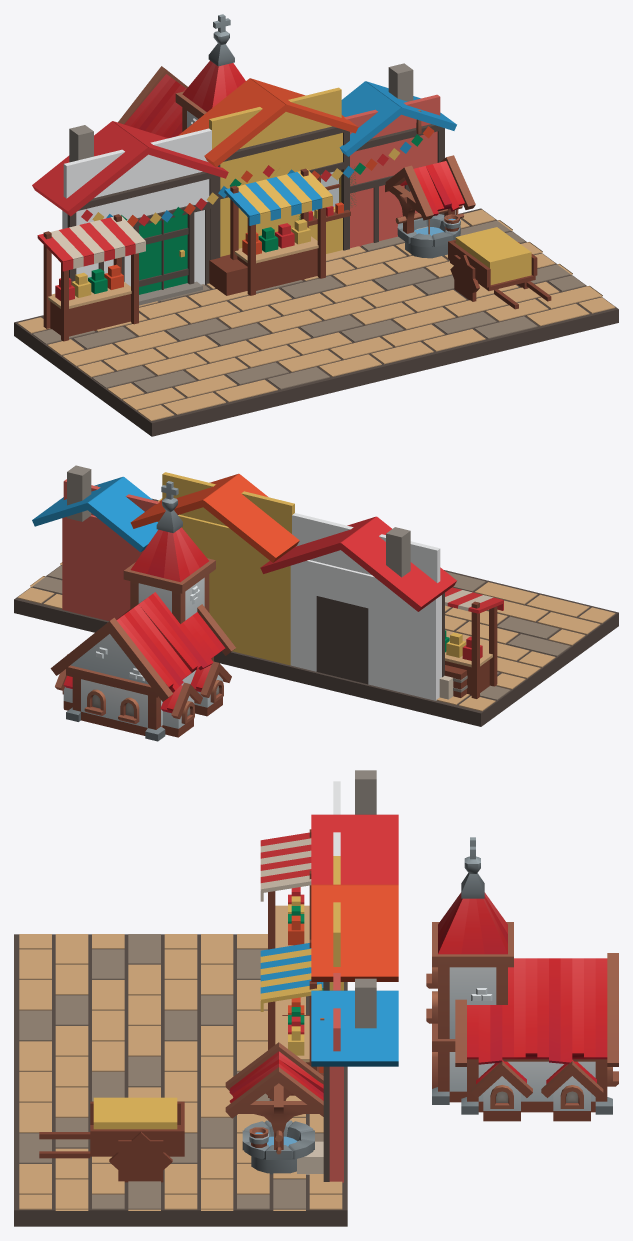
Rendered from market.glb.
3 renders of one model, top to bottom at view 1: azimuth 30°, elevation 25°; view 2: azimuth 150°, elevation 25°; view 3: azimuth 270°, elevation 25°, orthographic. The views are drawn at different scales.
Visible parts, largest first — view 1: static, door; view 2: static; view 3: static.
Boxes of the visible parts, x1=… form: static: x1=14, y1=14, x2=618, y2=436; door: x1=139, y1=214, x2=188, y2=294; static: x1=14, y1=465, x2=618, y2=741; static: x1=14, y1=770, x2=618, y2=1226.
Size of the model in its own units: 18.05 by 8.07 by 16.68.
1 material, 1 textured.
